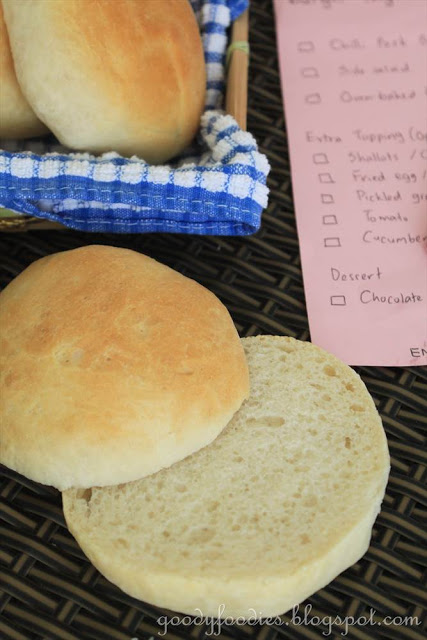hamburger_buns: (1, 254, 400, 618)
